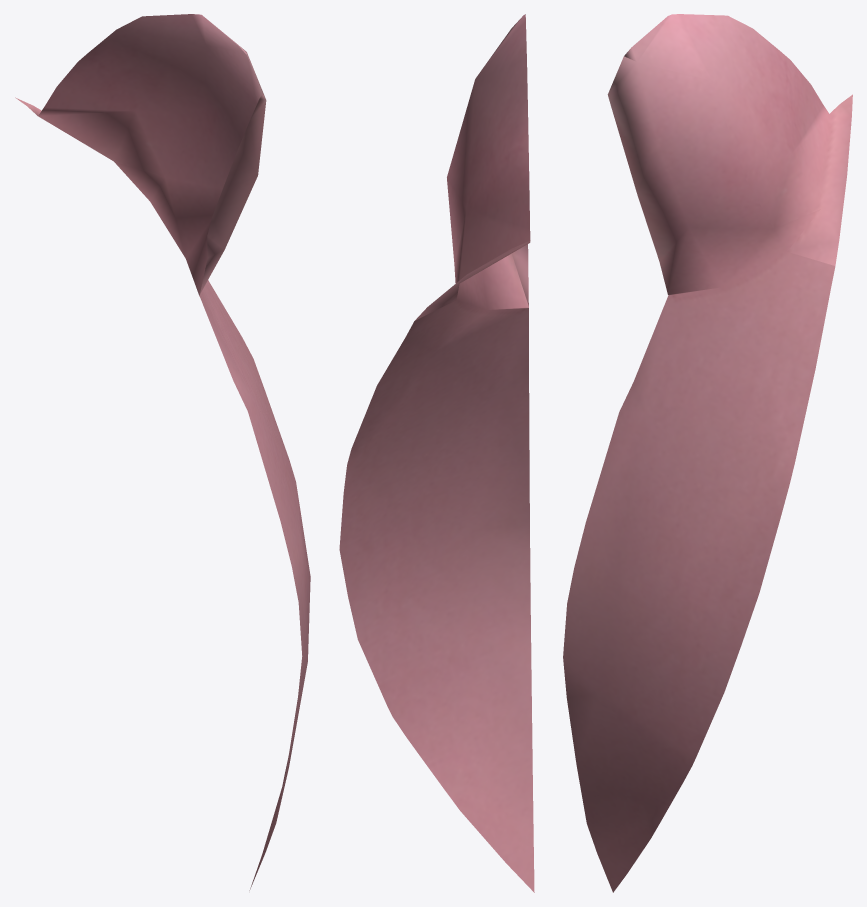
File: PiggyFragment04.glb
3 views of the same model, side by side, from view 1: azimuth 30°, elevation 25°; view 2: azimuth 150°, elevation 25°; view 3: azimuth 270°, elevation 25° (orthographic). The views are drawn at different scales.
Visible parts, largest first — view 1: Piece; view 2: Piece; view 3: Piece.
Boxes of the visible parts, <box> form: Piece: <box>15,14,310,890</box>; Piece: <box>339,14,534,892</box>; Piece: <box>563,14,852,892</box>.
Size of the model in its own units: 0.1535 by 0.5512 by 0.1668.
Materials: 1 (1 with a texture image).
